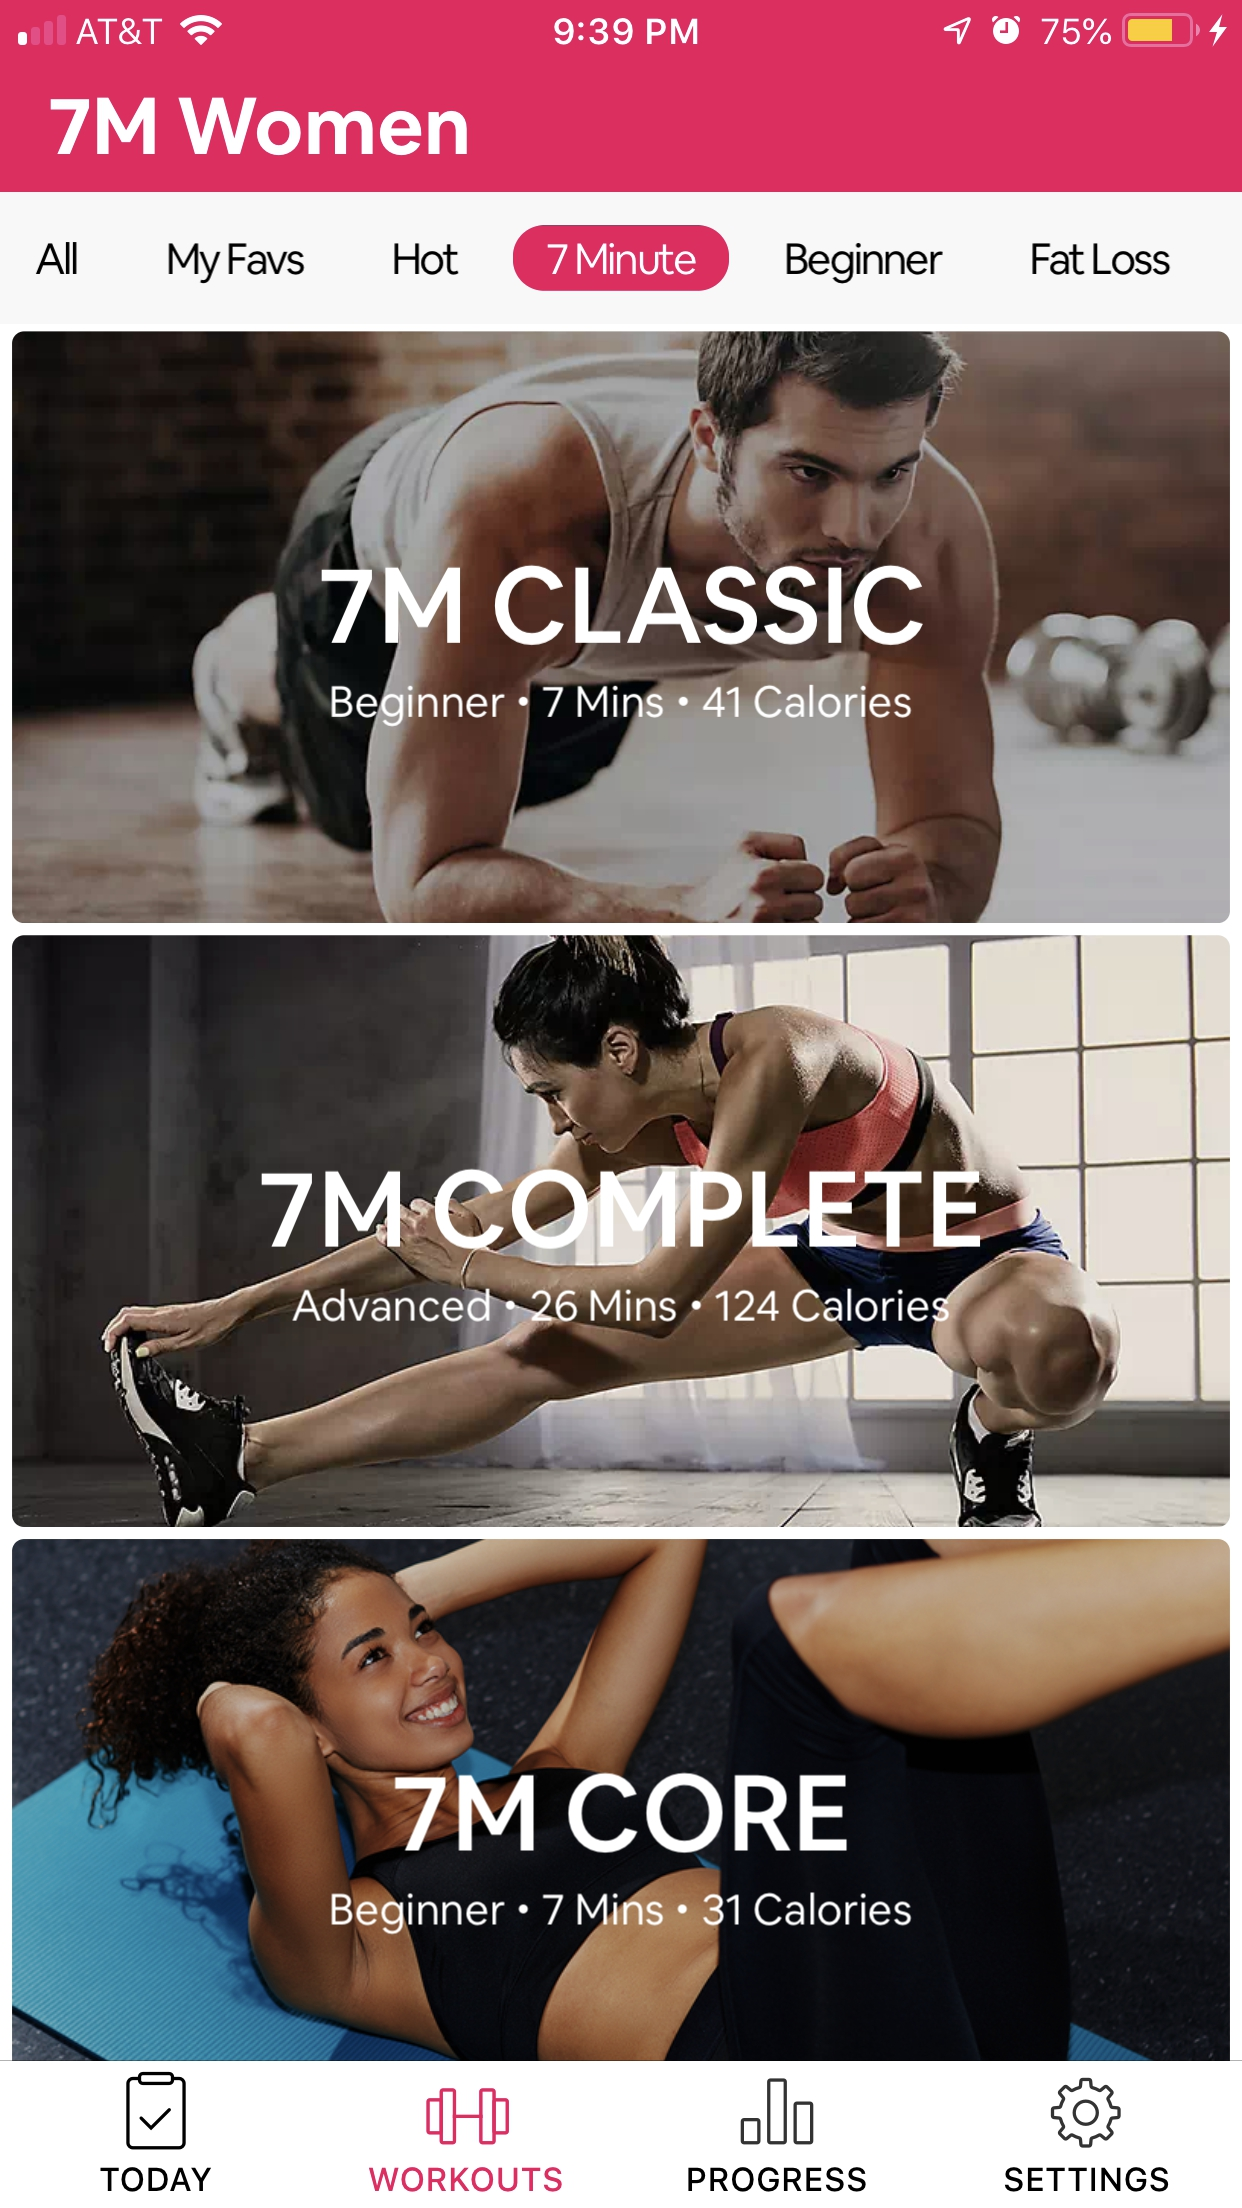Icon: (1049, 2078, 1122, 2149), (740, 2078, 814, 2146), (126, 2072, 188, 2150)
Image: (14, 936, 1231, 1529), (14, 331, 1231, 924), (14, 1539, 1231, 2061), (426, 2087, 511, 2146)
Text: (261, 1168, 981, 1251), (321, 566, 924, 648), (396, 1771, 848, 1855), (331, 684, 913, 728), (332, 1891, 913, 1935), (50, 97, 469, 158), (293, 1287, 949, 1322), (786, 243, 943, 285), (168, 243, 305, 285), (369, 2166, 563, 2193), (687, 2166, 867, 2193), (1031, 243, 1171, 278), (1005, 2166, 1171, 2191), (100, 2166, 212, 2191), (394, 244, 459, 276), (36, 243, 79, 276)
TextButton: (513, 224, 729, 293)
UpperTaskBar: (2, 2, 1242, 49)
